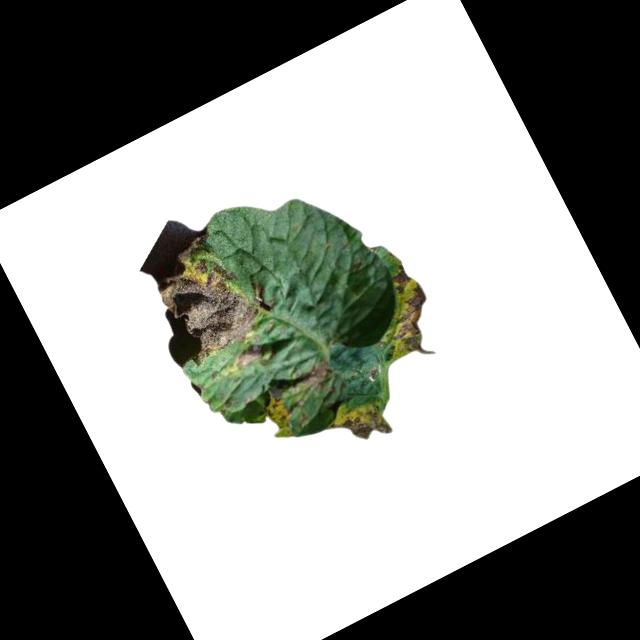Early_blight: (142, 223, 272, 366), (350, 264, 446, 365), (331, 392, 396, 454), (296, 356, 335, 395), (259, 393, 295, 434), (229, 340, 269, 372)
